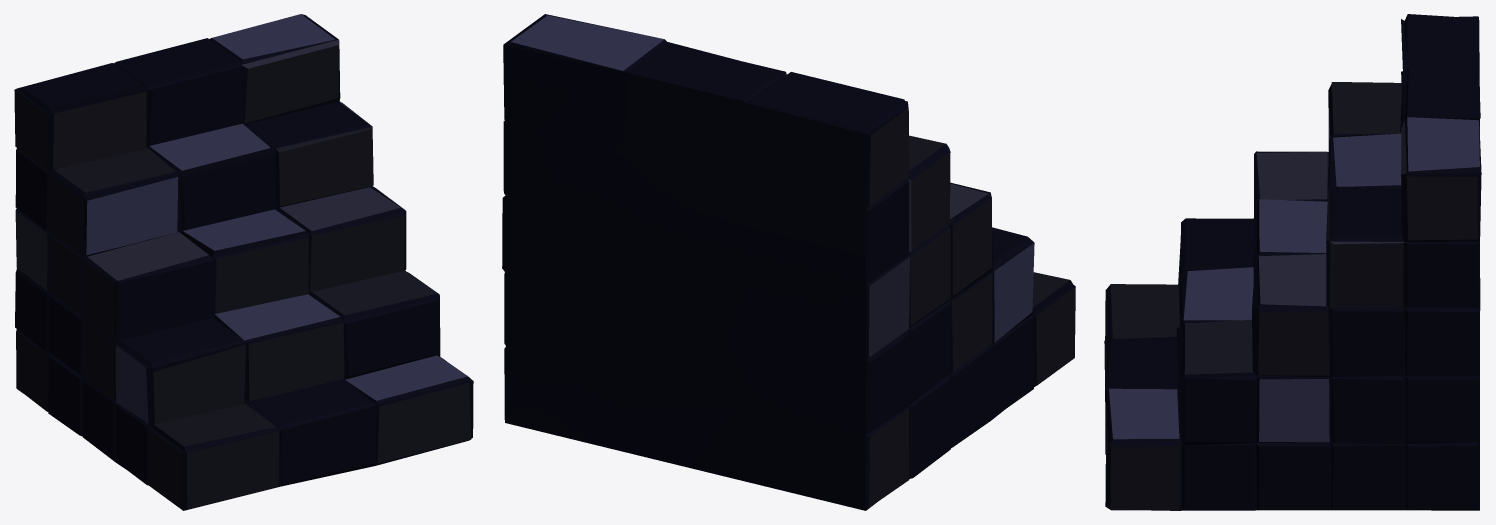
File: stairs.fbx
The picture shows the model from 3 angles, left to right: view 1: azimuth 30°, elevation 25°; view 2: azimuth 150°, elevation 25°; view 3: azimuth 270°, elevation 25°; orthographic projection. The views are drawn at different scales.
Parts seen in each view (by area): view 1: stairs; view 2: stairs; view 3: stairs.
Boxes of the visible parts, left/top/right/bottom form: stairs: left=14, top=14, right=473, bottom=510; stairs: left=502, top=14, right=1075, bottom=510; stairs: left=1104, top=14, right=1481, bottom=510.
Size of what is drawn, in the model's own units: 205 by 204 by 203.
1 material, 1 textured.
